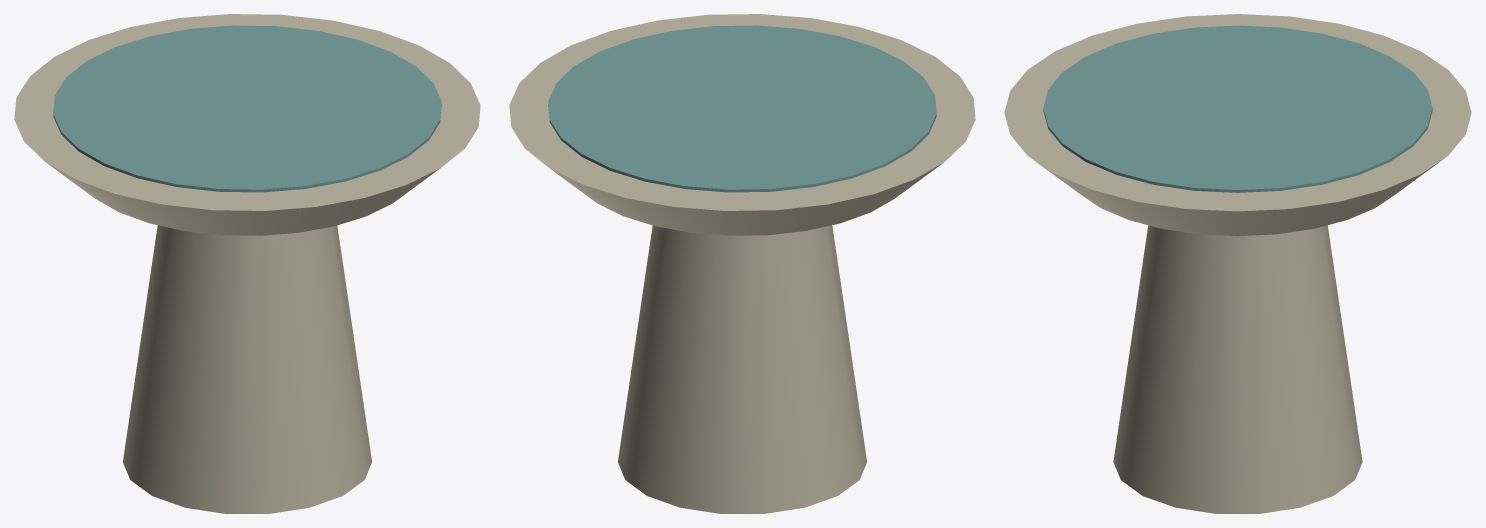
Rendered from birdbath.glb.
The picture shows the model from 3 angles, left to right: view 1: azimuth 30°, elevation 25°; view 2: azimuth 150°, elevation 25°; view 3: azimuth 270°, elevation 25°; orthographic projection.
Visible parts, largest first — view 1: birdbath; view 2: birdbath; view 3: birdbath.
Boxes of the visible parts, box(x1,y1,x2,y2) form: birdbath: box(14, 14, 480, 513); birdbath: box(509, 14, 975, 513); birdbath: box(1004, 14, 1471, 513).
Size of the model in its own units: 1.2 by 1 by 1.2.
